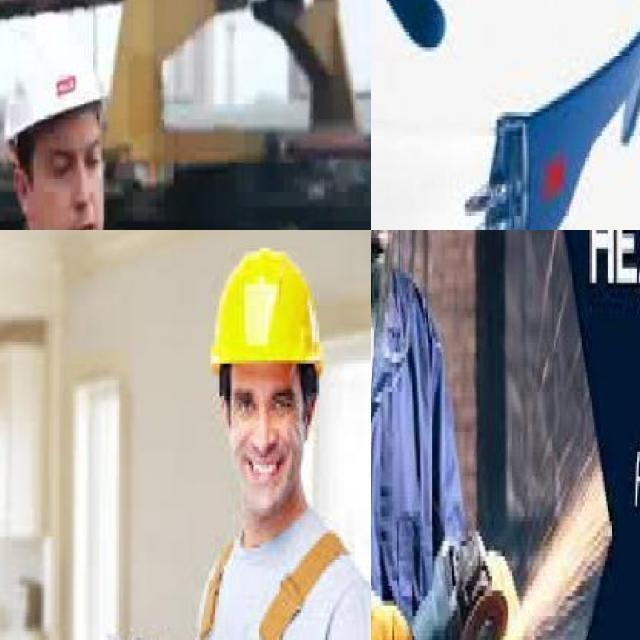apron: (371, 555, 417, 640)
